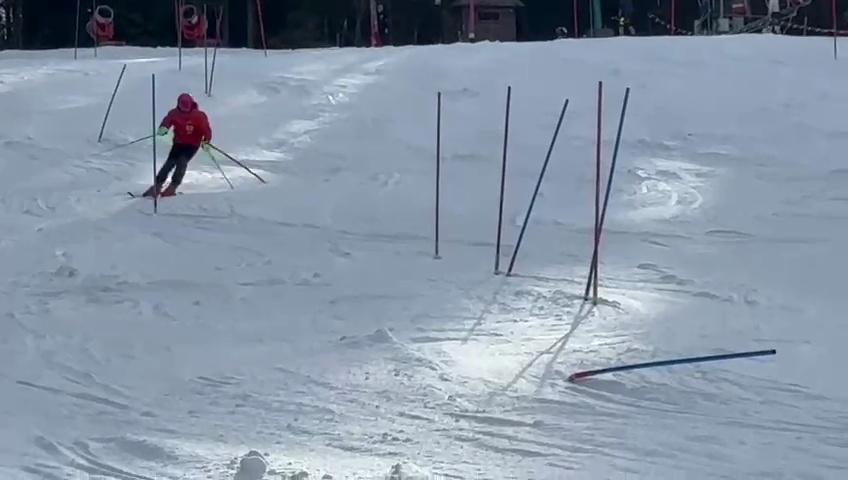gate: (538, 331, 782, 399), (503, 84, 571, 289), (587, 77, 631, 301), (486, 73, 511, 285), (421, 74, 447, 270), (134, 67, 163, 212), (87, 49, 129, 147), (193, 20, 238, 95), (172, 16, 190, 73), (254, 0, 271, 58)
